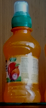orange: (4, 1, 41, 103)
